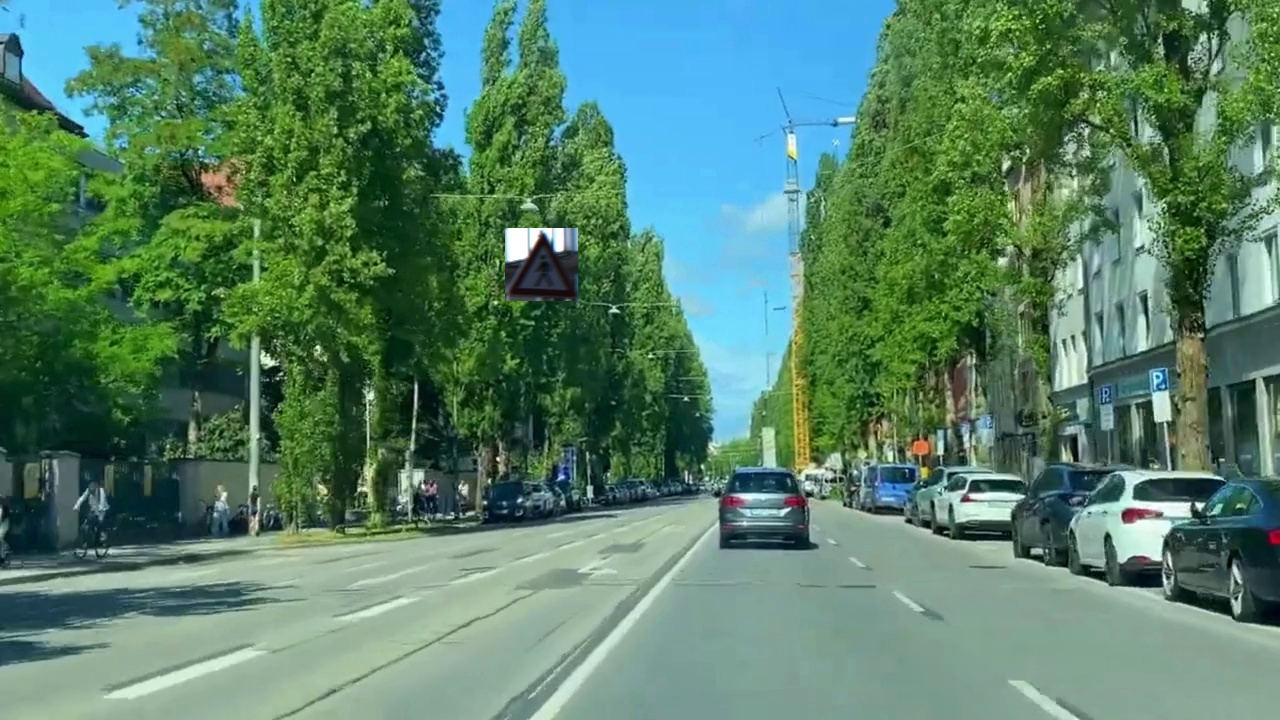Pedestrians: (505, 228, 578, 301)
